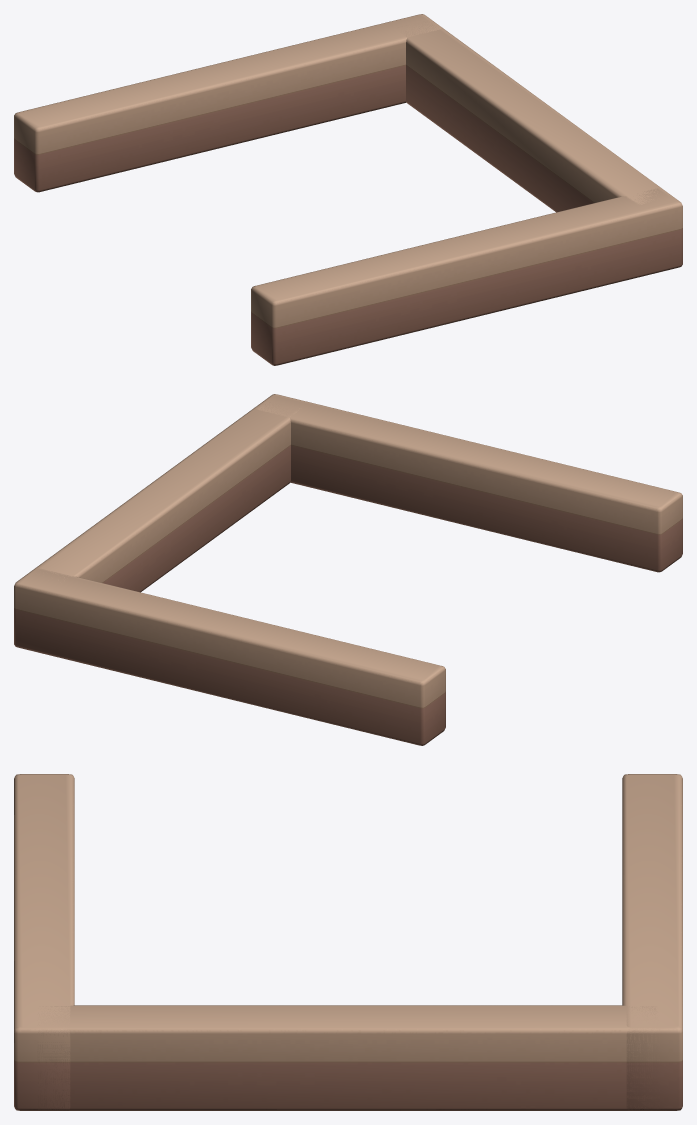
File: Props.fbx
3 renders of one model, top to bottom at view 1: azimuth 30°, elevation 25°; view 2: azimuth 150°, elevation 25°; view 3: azimuth 270°, elevation 25°, orthographic. The views are drawn at different scales.
Parts seen in each view (by area): view 1: Box20-3_2, Box20-3_2 (1), Box20-3_2 (2); view 2: Box20-3_2 (1), Box20-3_2, Box20-3_2 (2); view 3: Box20-3_2 (2), Box20-3_2 (1), Box20-3_2.
Boxes of the visible parts, x1,y1,x2,y2 form: Box20-3_2: [251, 188, 682, 365]; Box20-3_2 (1): [14, 14, 443, 192]; Box20-3_2 (2): [396, 20, 672, 212]; Box20-3_2 (1): [14, 568, 445, 745]; Box20-3_2: [253, 394, 682, 572]; Box20-3_2 (2): [33, 400, 301, 592]; Box20-3_2 (2): [37, 1005, 659, 1110]; Box20-3_2 (1): [622, 774, 682, 1110]; Box20-3_2: [14, 774, 74, 1110].
Size of the model in its own units: 10 by 1.5 by 11.
